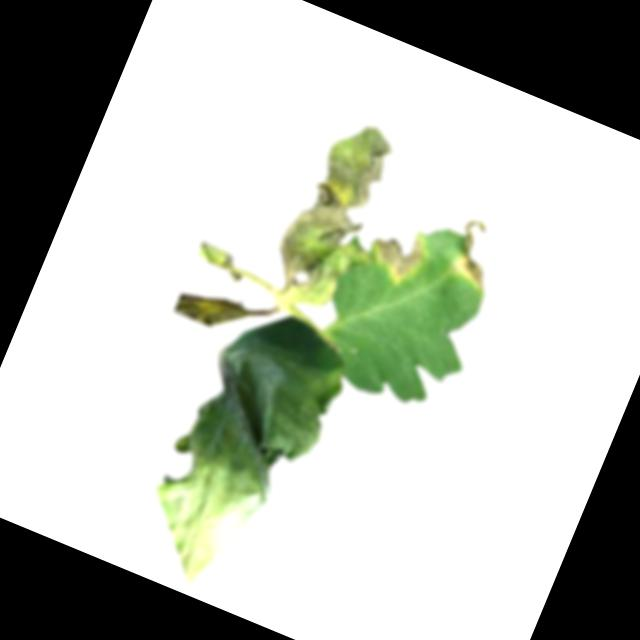Late_blight: (123, 289, 362, 610), (263, 112, 418, 317), (443, 214, 505, 290), (366, 222, 430, 290)
